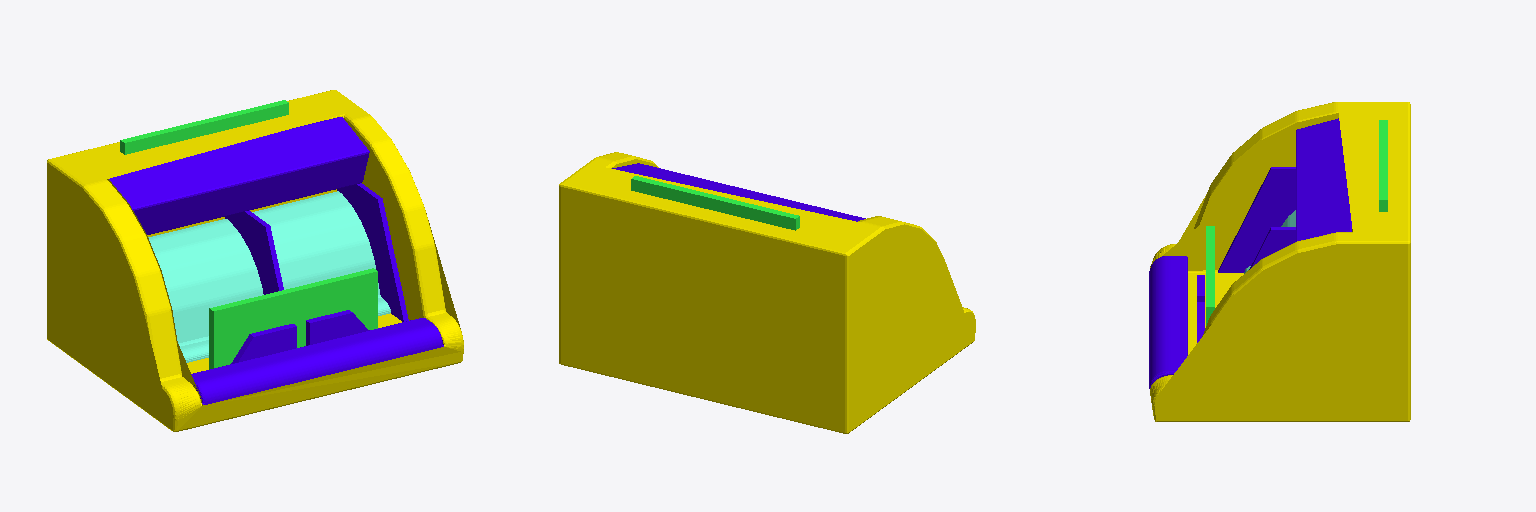
The model's file is 1801-moneymachine_1.obj.
3 renders of one model, left to right at view 1: azimuth 30°, elevation 25°; view 2: azimuth 150°, elevation 25°; view 3: azimuth 270°, elevation 25°, orthographic.
Parts seen in each view (by area): view 1: Cube_Material, Cube_Material.001, Cube_Material.005, Cube_Material.002; view 2: Cube_Material, Cube_Material.002, Cube_Material.001; view 3: Cube_Material, Cube_Material.001, Cube_Material.002.
Part boxes in pixels (x1,y1,x2,y2): Cube_Material: (47,90,463,431); Cube_Material.001: (109,117,443,404); Cube_Material.005: (148,191,390,362); Cube_Material.002: (120,100,377,369); Cube_Material: (559,152,975,433); Cube_Material.002: (631,176,799,230); Cube_Material.001: (612,163,865,221); Cube_Material: (1150,102,1410,421); Cube_Material.001: (1149,118,1351,388); Cube_Material.002: (1206,120,1387,325).
Size of the model in its own units: 16.82 by 10.67 by 13.1.